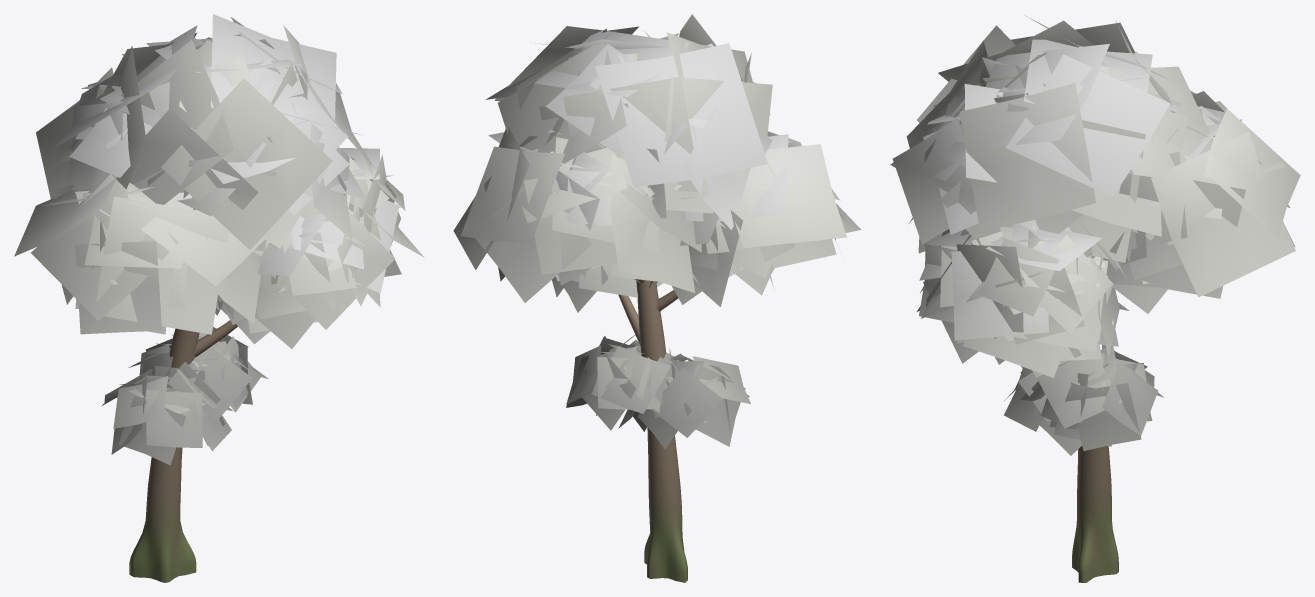
File: jungleC_lod0.glb
The picture shows the model from 3 angles, left to right: view 1: azimuth 30°, elevation 25°; view 2: azimuth 150°, elevation 25°; view 3: azimuth 270°, elevation 25°; orthographic projection. The views are drawn at different scales.
Visible parts, largest first — view 1: jungleC; view 2: jungleC; view 3: jungleC.
Boxes of the visible parts, box(x1,y1,x2,y2) form: jungleC: box(14, 14, 424, 582); jungleC: box(453, 14, 861, 582); jungleC: box(890, 15, 1300, 582).
Size of the model in its own units: 20.25 by 27.68 by 18.5.
